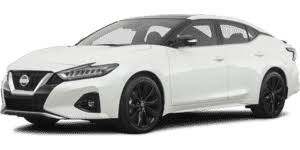Nissan: (3, 23, 286, 124)
